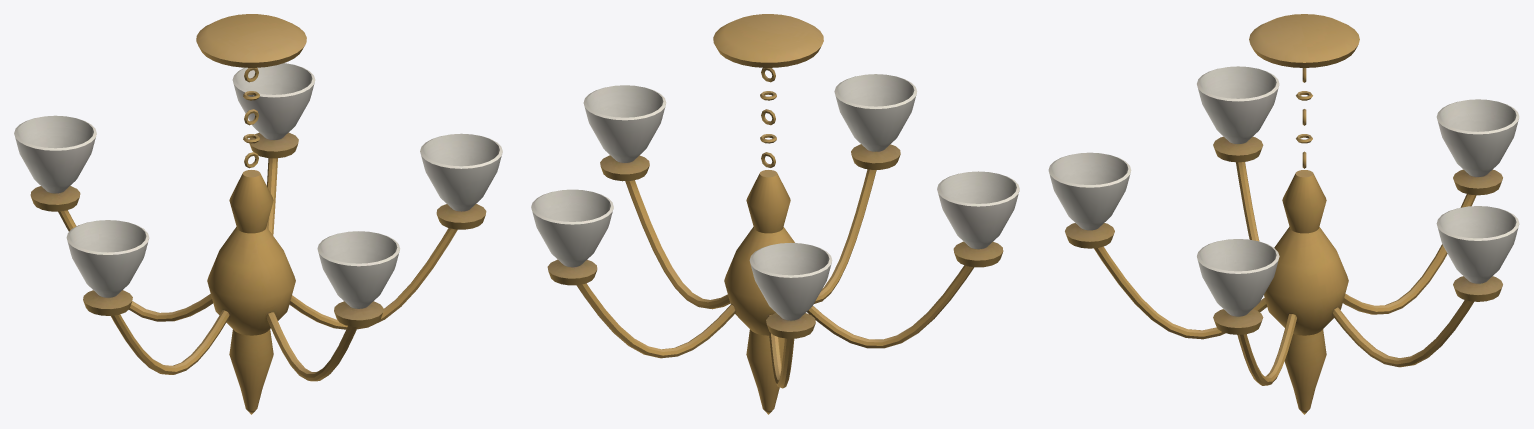
File: chandelier.glb
3 views of the same model, side by side, from view 1: azimuth 30°, elevation 25°; view 2: azimuth 150°, elevation 25°; view 3: azimuth 270°, elevation 25° (orthographic).
Visible parts, largest first — view 1: chandelier; view 2: chandelier; view 3: chandelier.
Boxes of the visible parts, x1,y1,x2,y2 form: chandelier: (14, 14, 502, 414); chandelier: (531, 14, 1019, 414); chandelier: (1048, 14, 1519, 414).
Bounding box in the file's own units: 0.6636 × 0.57 × 0.6366.
Materials: 1 (1 with a texture image).
